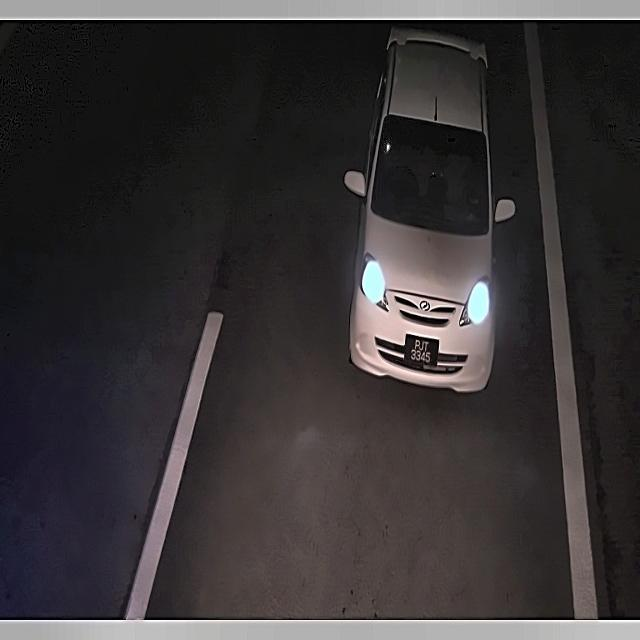car: (404, 331, 441, 373)
